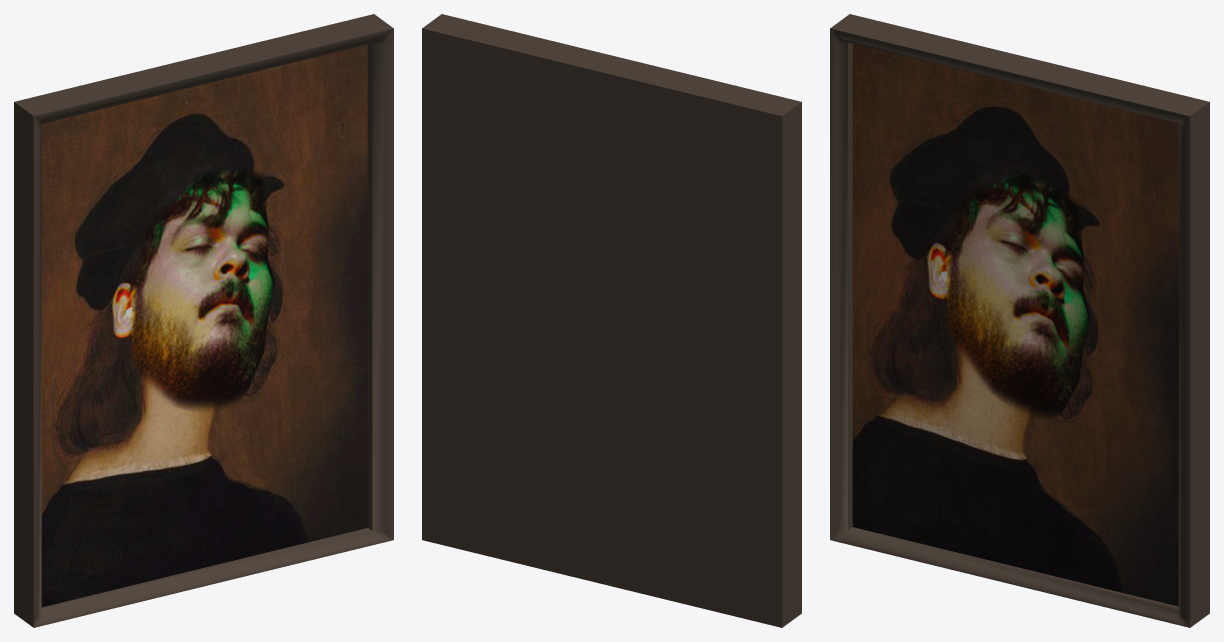
The model's file is Chris_Painting.fbx.
The picture shows the model from 3 angles, left to right: view 1: azimuth 30°, elevation 25°; view 2: azimuth 150°, elevation 25°; view 3: azimuth 330°, elevation 25°; orthographic projection.
Parts seen in each view (by area): view 1: Portriat; view 2: Portriat; view 3: Portriat.
Boxes of the visible parts, x1=… form: Portriat: x1=14, y1=14, x2=393, y2=627; Portriat: x1=422, y1=14, x2=801, y2=627; Portriat: x1=830, y1=14, x2=1209, y2=627.
Bounding box in the file's own units: 70.29 × 95.44 × 6.68.
1 material, 1 textured.
